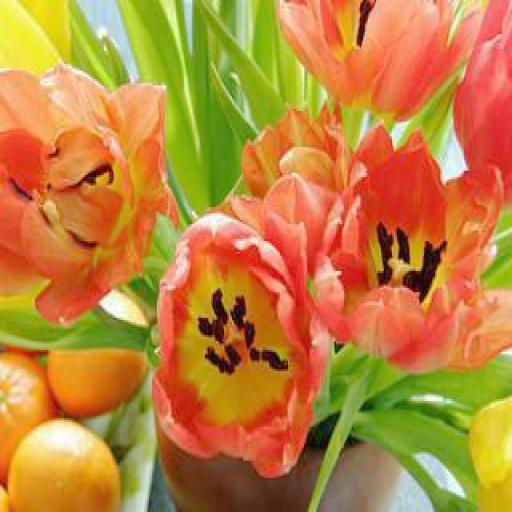tulip: (315, 122, 512, 376), (156, 194, 326, 455), (0, 62, 166, 318)
